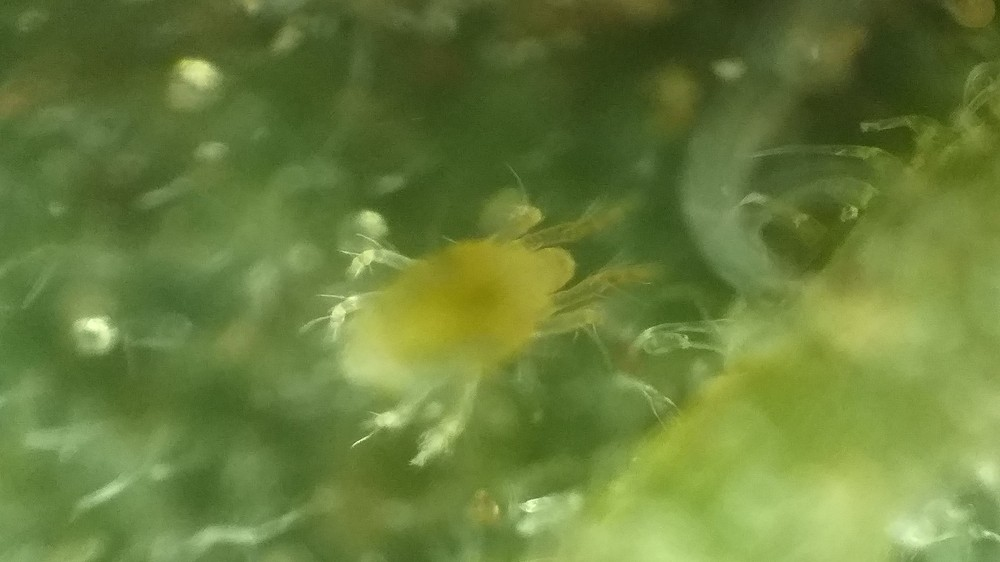Aracnido Rojo: (282, 180, 692, 467)
